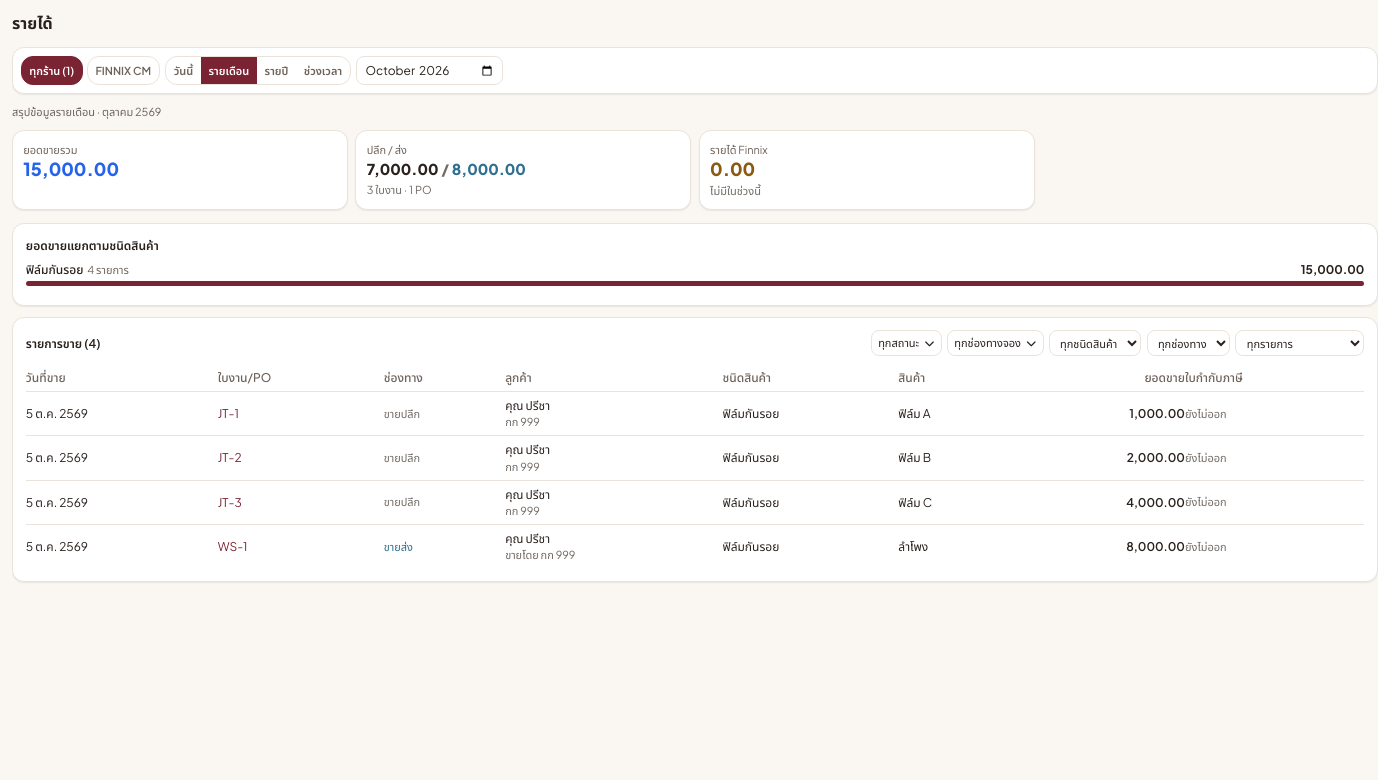
it: RevenueModule — กรองตามจองผ่าน › กรองแล้ว บรรทัดขายส่งที่ไม่มีจองผ่าน หลุดออกไป
Click the button with aria-label "กรองตามจองผ่าน" at {"x": 995, "y": 343}, box [947, 330, 1044, 356]
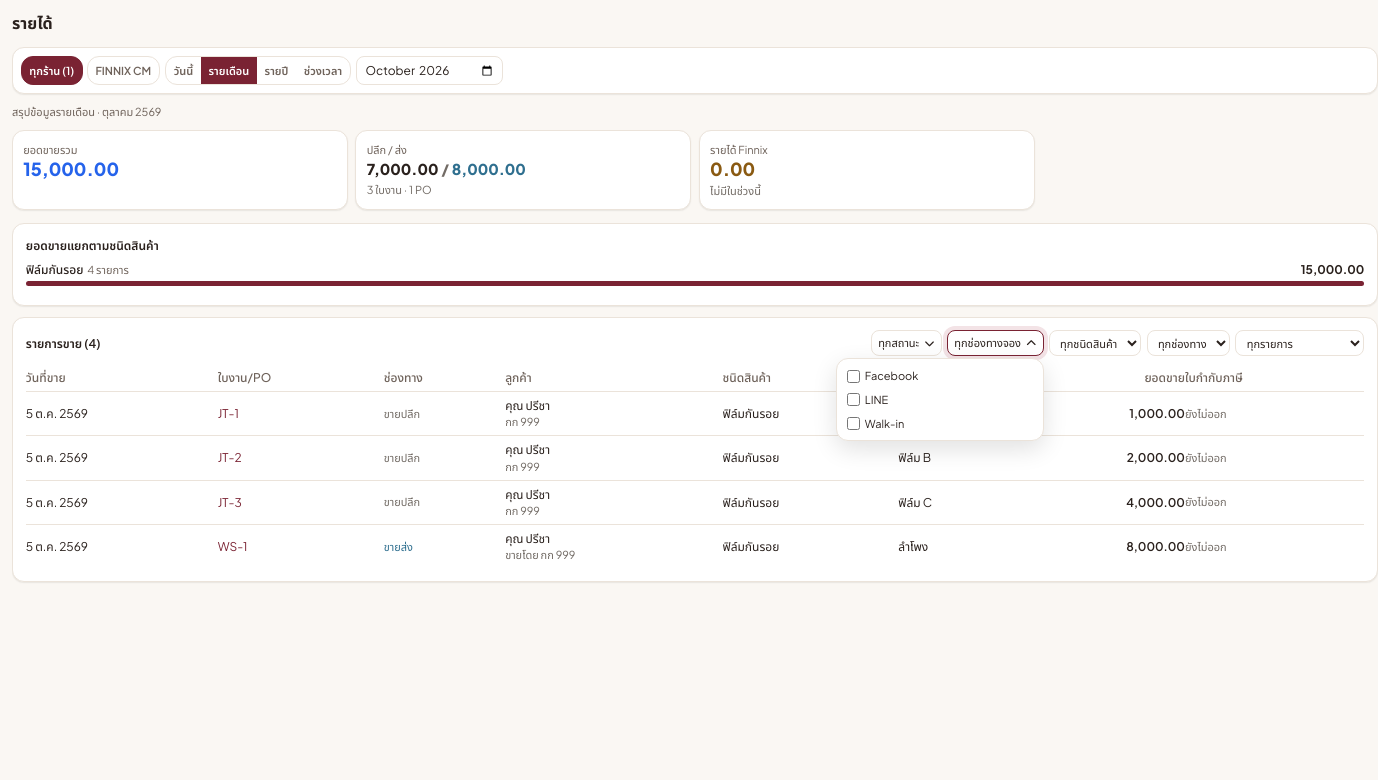
Click the checkbox labelled "Walk-in" at {"x": 853, "y": 423}, box [847, 417, 860, 430]
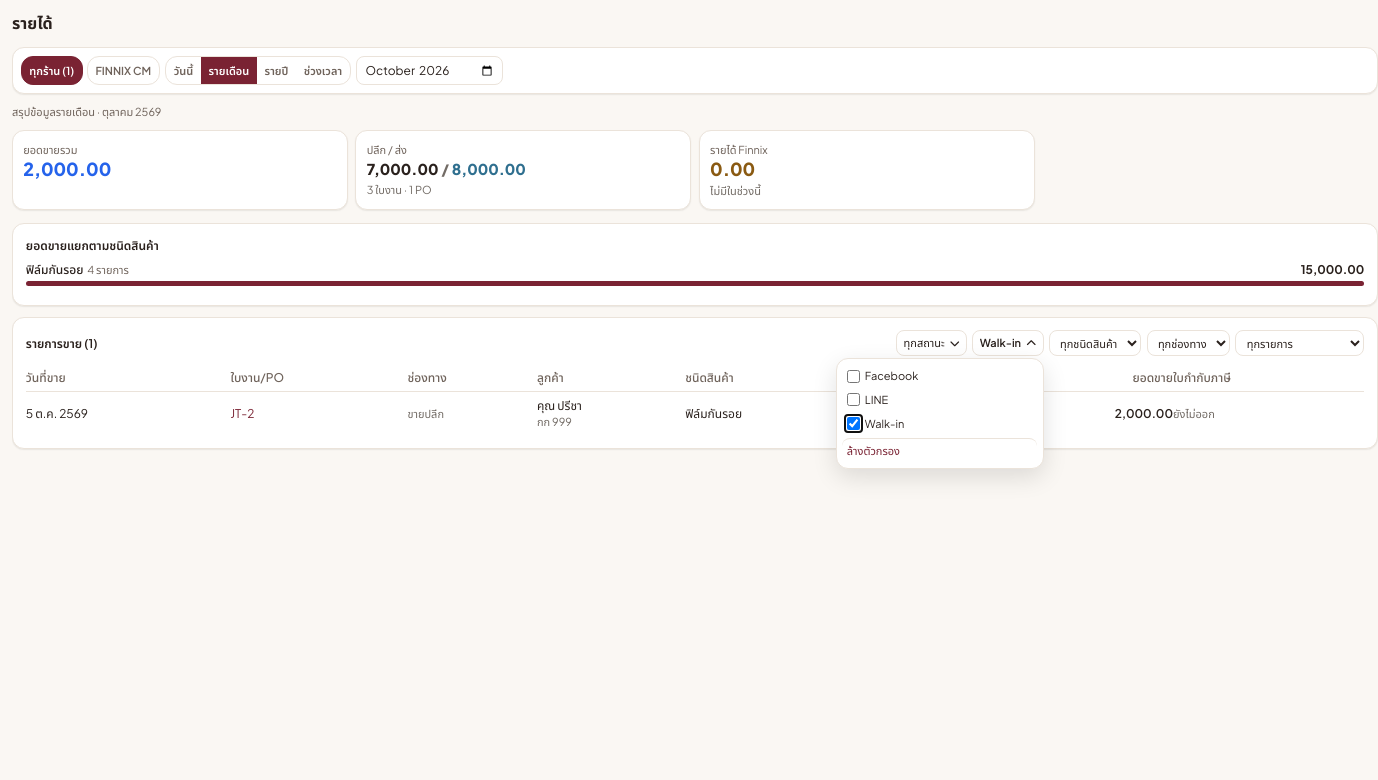
expect the text "รายการขาย (1)" is shown: met, box [26, 334, 97, 352]
expect the text "ลำโพง" is gone: met
